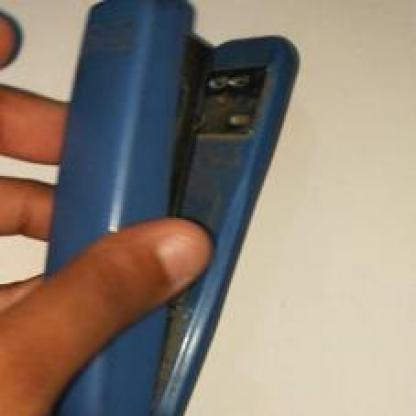stapler: (49, 2, 314, 385)
